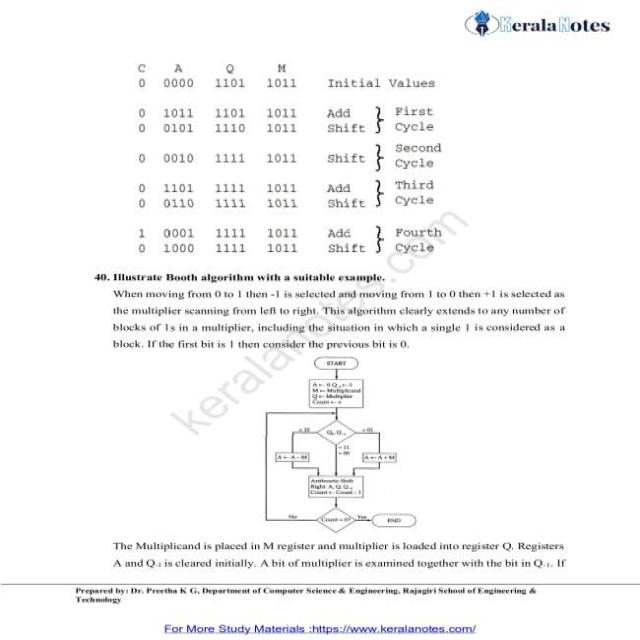Figure Detection - v3 Dataset Version2: (257, 352, 426, 536)
